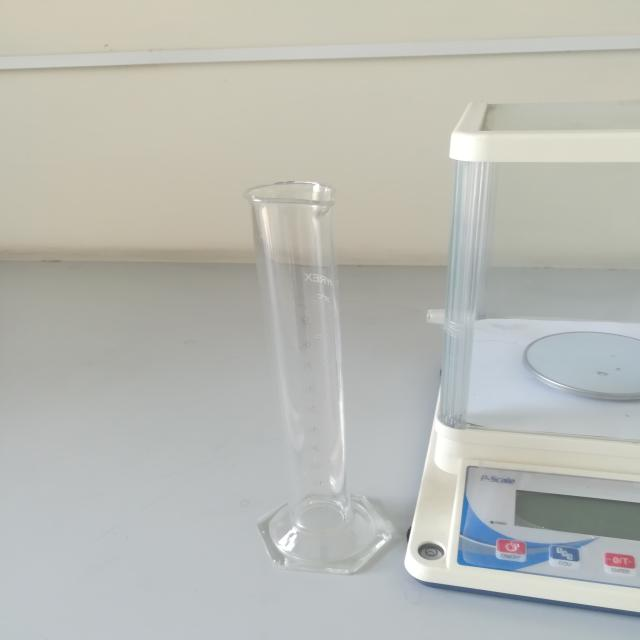Measuring_Cylinder: (205, 131, 438, 612)
